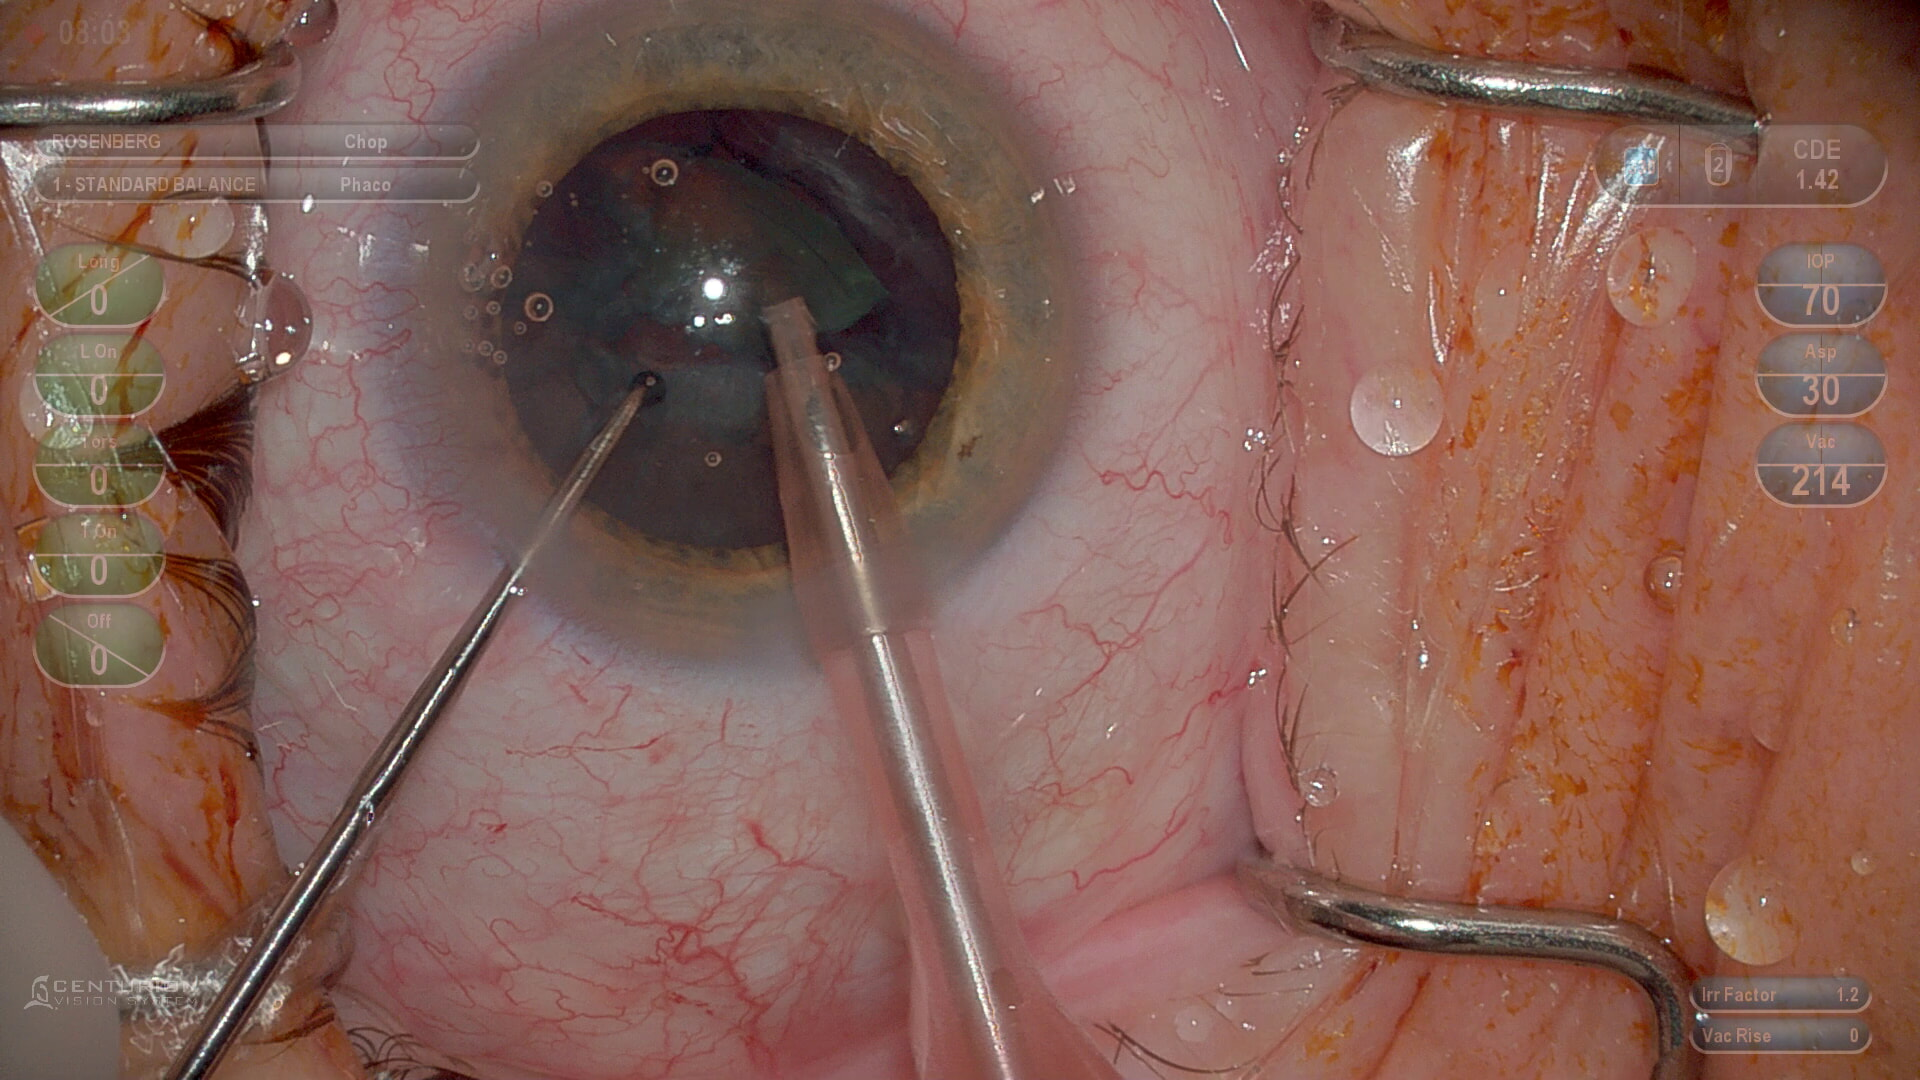iris: (396, 16, 1086, 655)
pupil: (513, 109, 974, 570)
